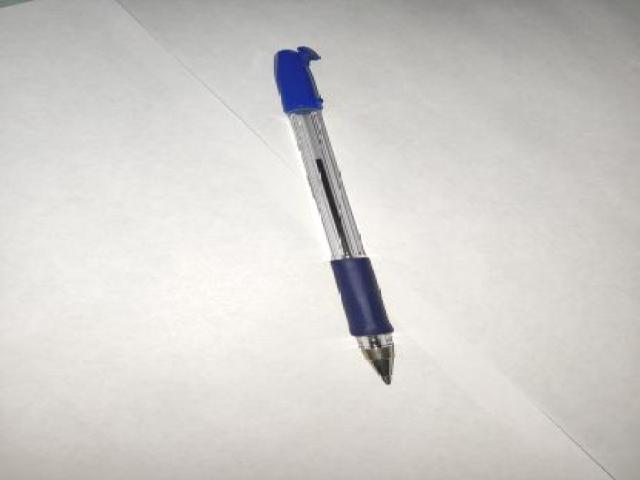PEN: (266, 42, 399, 396)
